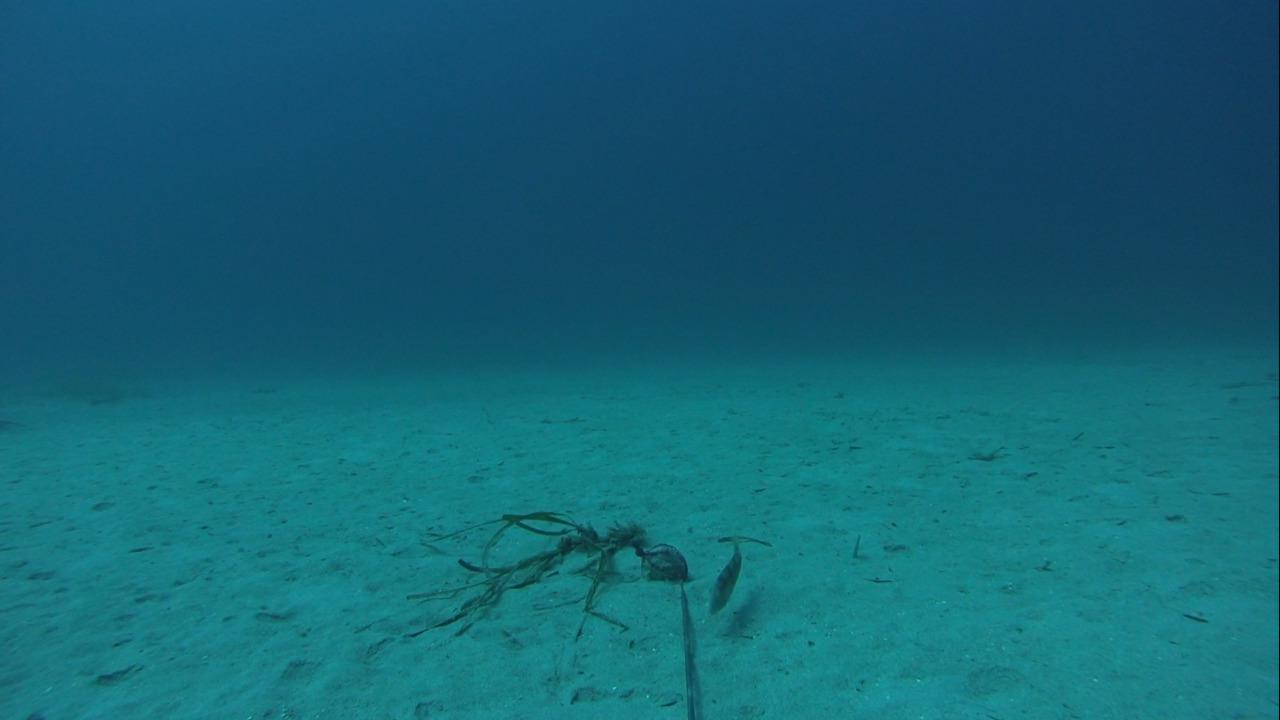raor: (703, 538, 745, 619)
